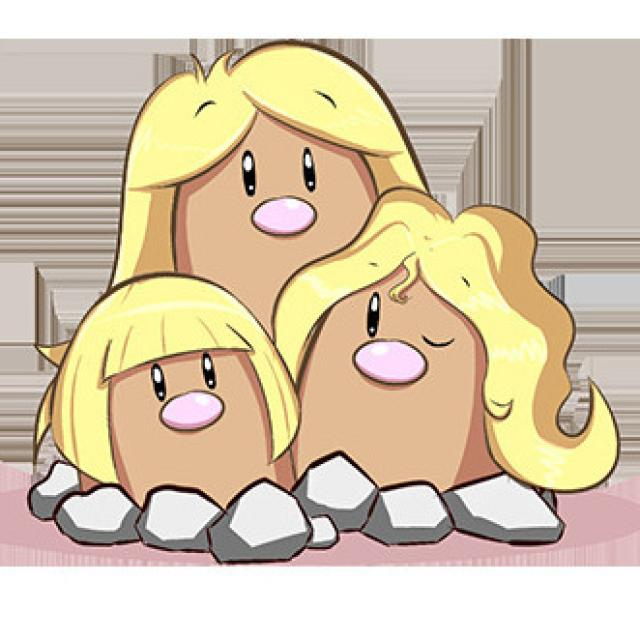Dugtrio: (63, 66, 530, 505)
